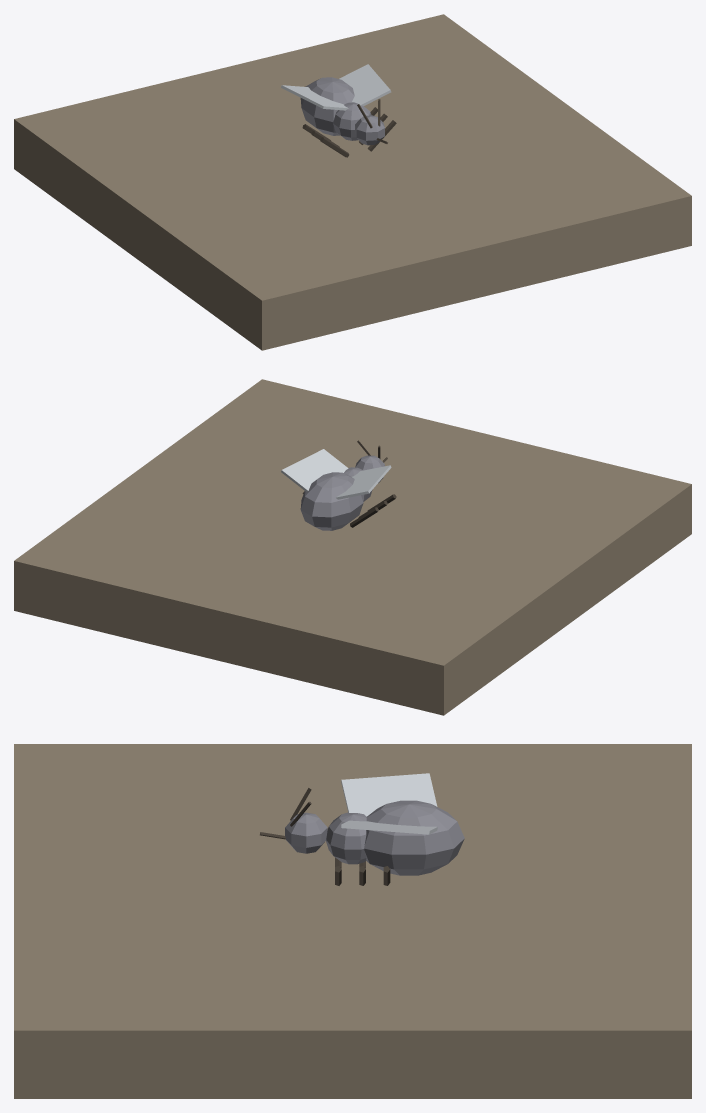
Rendered from bug_mosquito.glb.
3 renders of one model, top to bottom at view 1: azimuth 30°, elevation 25°; view 2: azimuth 150°, elevation 25°; view 3: azimuth 270°, elevation 25°, orthographic. The views are drawn at different scales.
Visible parts, largest first — view 1: Base, TurretMesh, HeadMesh; view 2: Base, TurretMesh; view 3: Base, TurretMesh, HeadMesh.
Boxes of the visible parts, x1,y1,x2,y2 form: Base: (14, 14, 691, 350); TurretMesh: (281, 64, 396, 157); HeadMesh: (355, 99, 387, 145); Base: (14, 379, 691, 715); TurretMesh: (281, 449, 396, 530); Base: (14, 744, 691, 1098); TurretMesh: (326, 773, 464, 885); HeadMesh: (260, 788, 327, 853).
Bounding box in the file's own units: 1.8 × 0.4705 × 1.8.
